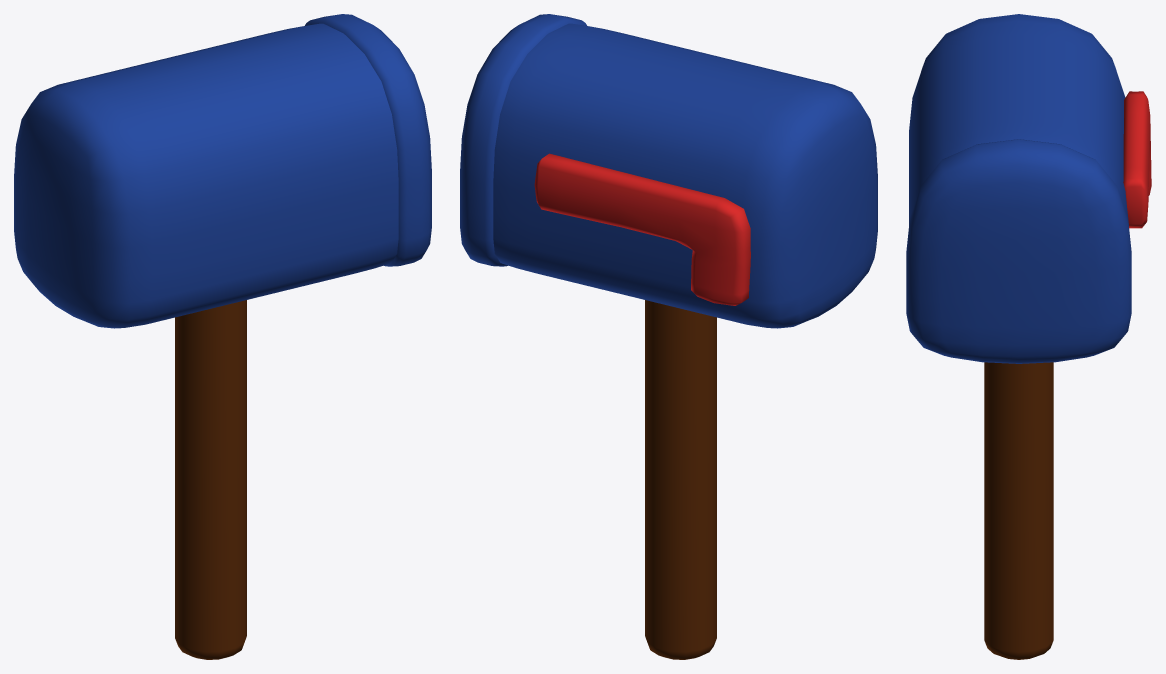
Rendered from Inbox.fbx.
The picture shows the model from 3 angles, left to right: view 1: azimuth 30°, elevation 25°; view 2: azimuth 150°, elevation 25°; view 3: azimuth 270°, elevation 25°; orthographic projection.
Parts seen in each view (by area): view 1: Inbox2, Inbox3, Inbox5; view 2: Inbox2, Inbox3, Inbox4, Inbox5; view 3: Inbox5, Inbox2, Inbox3, Inbox4.
Part boxes in pixels (left/top/right/bottom): Inbox2: left=14, top=23, right=398, bottom=328; Inbox3: left=175, top=300, right=246, bottom=659; Inbox5: left=305, top=14, right=431, bottom=266; Inbox2: left=493, top=23, right=877, bottom=328; Inbox3: left=645, top=300, right=716, bottom=659; Inbox4: left=534, top=153, right=750, bottom=305; Inbox5: left=460, top=14, right=586, bottom=266; Inbox5: left=906, top=139, right=1131, bottom=363; Inbox2: left=909, top=14, right=1128, bottom=224; Inbox3: left=984, top=362, right=1053, bottom=659; Inbox4: left=1123, top=91, right=1151, bottom=228.
Bounding box in the file's own units: 3.71 × 6 × 2.31.
